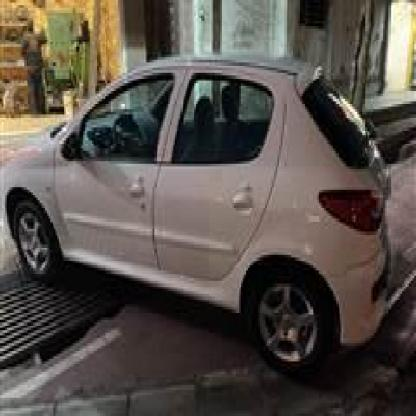Car: (0, 52, 406, 364)
